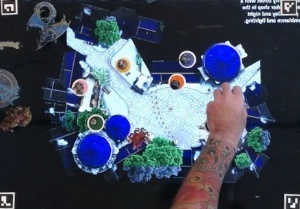green: (87, 113, 106, 131)
orange: (168, 72, 187, 90)
pink: (71, 78, 90, 97)
violet: (174, 49, 197, 68)
yellow: (114, 56, 131, 75)
